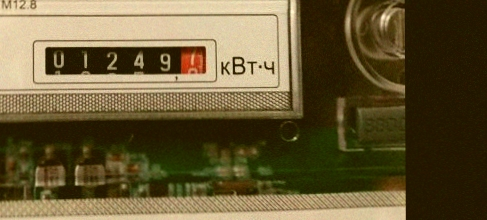0: (51, 48, 65, 68)
1: (78, 48, 90, 69)
2: (103, 49, 119, 71)
4: (132, 48, 145, 69)
7: (186, 45, 199, 65)
9: (158, 50, 171, 71)
screen: (29, 34, 220, 85)
